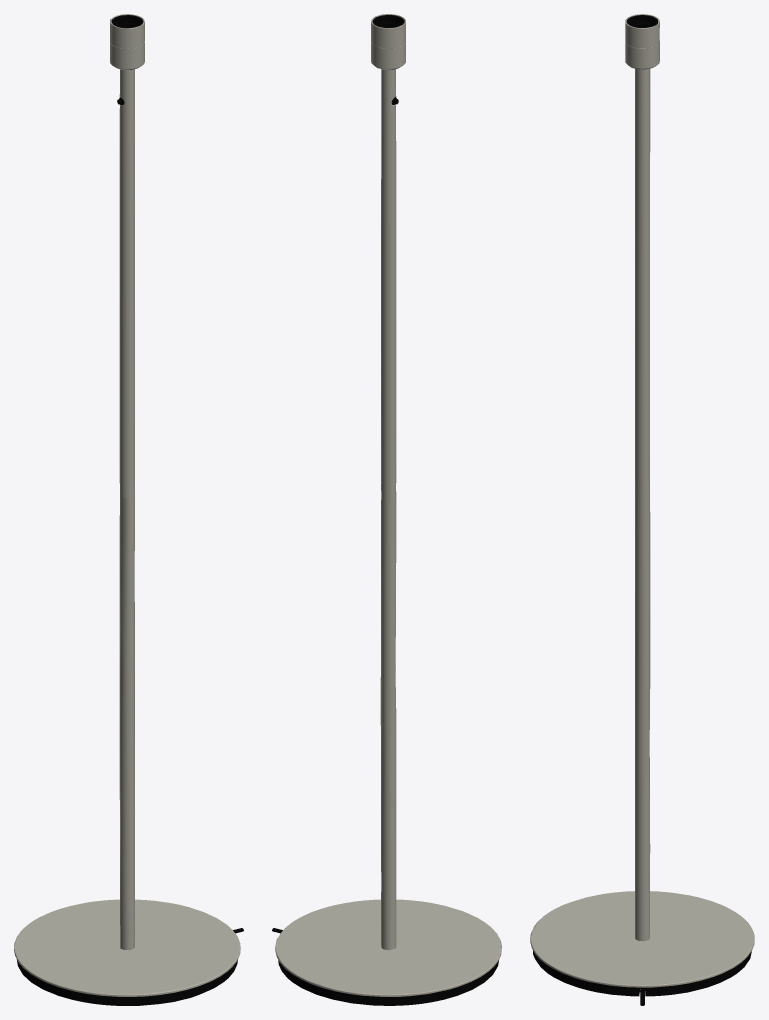
The picture shows the model from 3 angles, left to right: view 1: azimuth 30°, elevation 25°; view 2: azimuth 150°, elevation 25°; view 3: azimuth 270°, elevation 25°; orthographic projection.
Visible parts, largest first — view 1: 80405394-SKAFTET001; view 2: 80405394-SKAFTET001; view 3: 80405394-SKAFTET001.
Part boxes in pixels (box(x1,y1,x2,y2)): 80405394-SKAFTET001: box(14, 14, 243, 1005); 80405394-SKAFTET001: box(272, 14, 501, 1005); 80405394-SKAFTET001: box(530, 14, 754, 1005).
Bounding box in the file's own units: 0.31 × 1.3 × 0.2849.
1 material, 1 textured.
